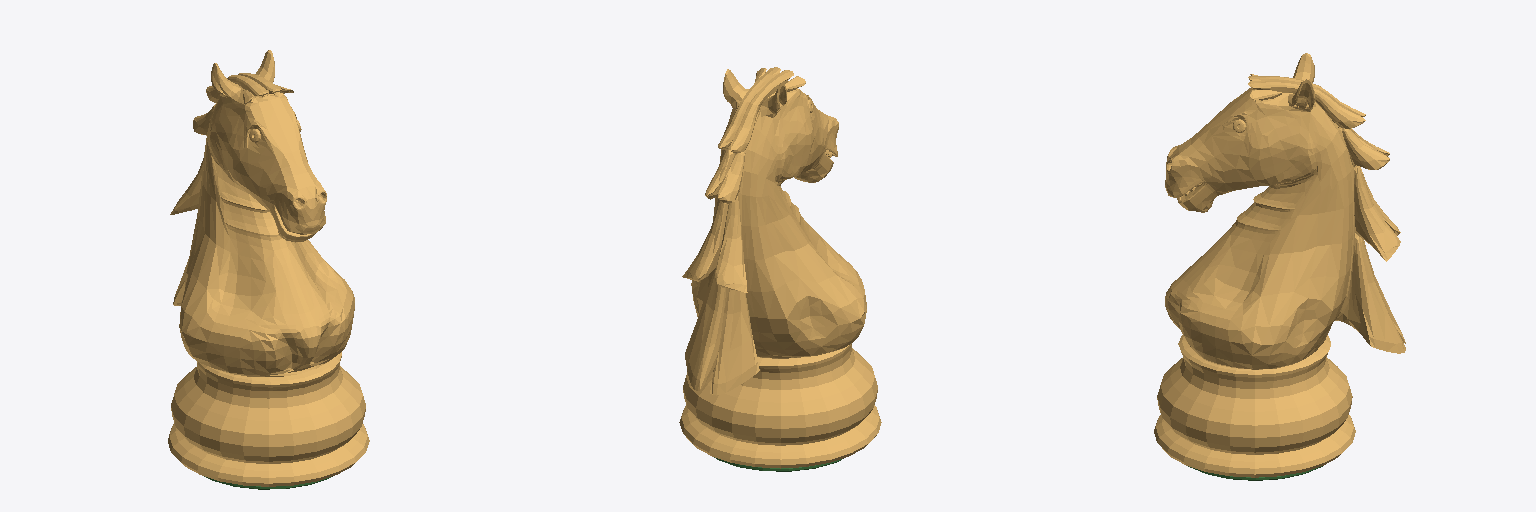
Rendered from cavall.obj.
3 renders of one model, left to right at view 1: azimuth 30°, elevation 25°; view 2: azimuth 150°, elevation 25°; view 3: azimuth 270°, elevation 25°, orthographic.
Parts seen in each view (by area): view 1: cavall:blanc_cavall_01; view 2: cavall:blanc_cavall_01; view 3: cavall:blanc_cavall_01.
Boxes of the visible parts, box(x1,y1,x2,y2) form: cavall:blanc_cavall_01: box(168, 50, 369, 489); cavall:blanc_cavall_01: box(679, 67, 881, 471); cavall:blanc_cavall_01: box(1154, 53, 1405, 480).
Size of the model in its own units: 2.81 by 5.82 by 3.5.